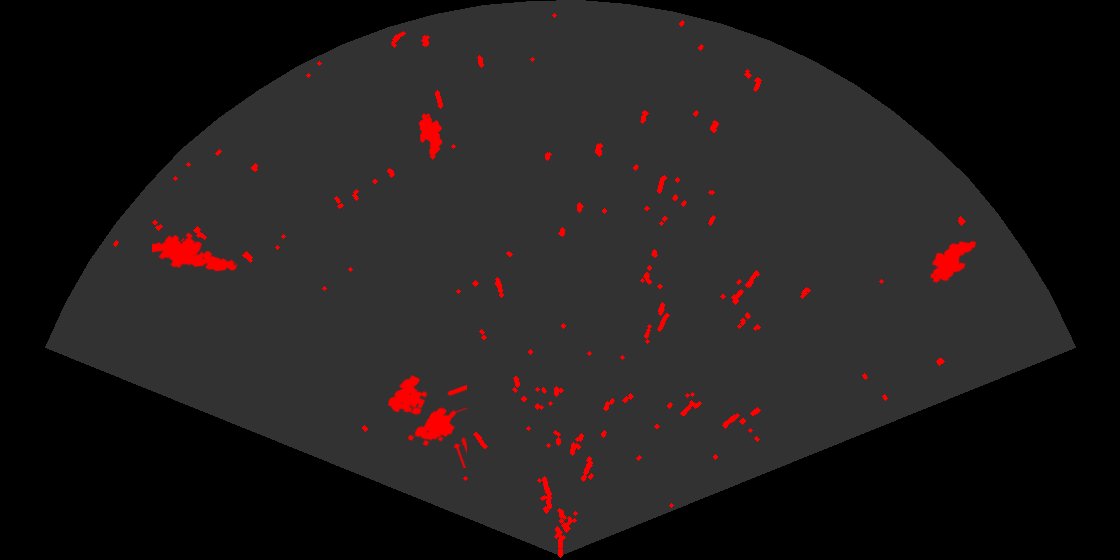AUV: (928, 239, 978, 284), (417, 112, 444, 161)
cage: (386, 373, 467, 468)
frogman: (152, 231, 238, 273)
